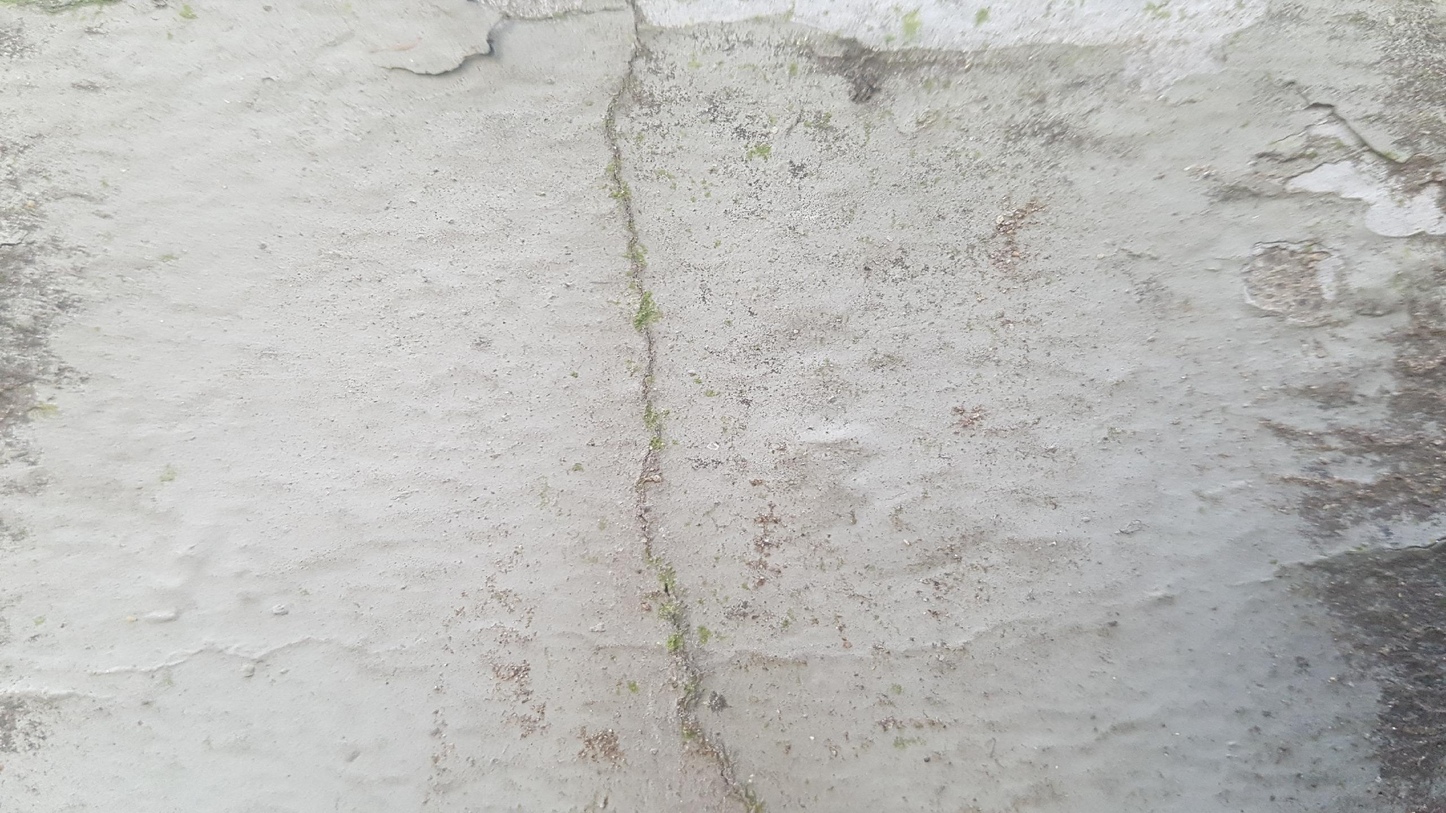crack: (391, 2, 750, 795)
